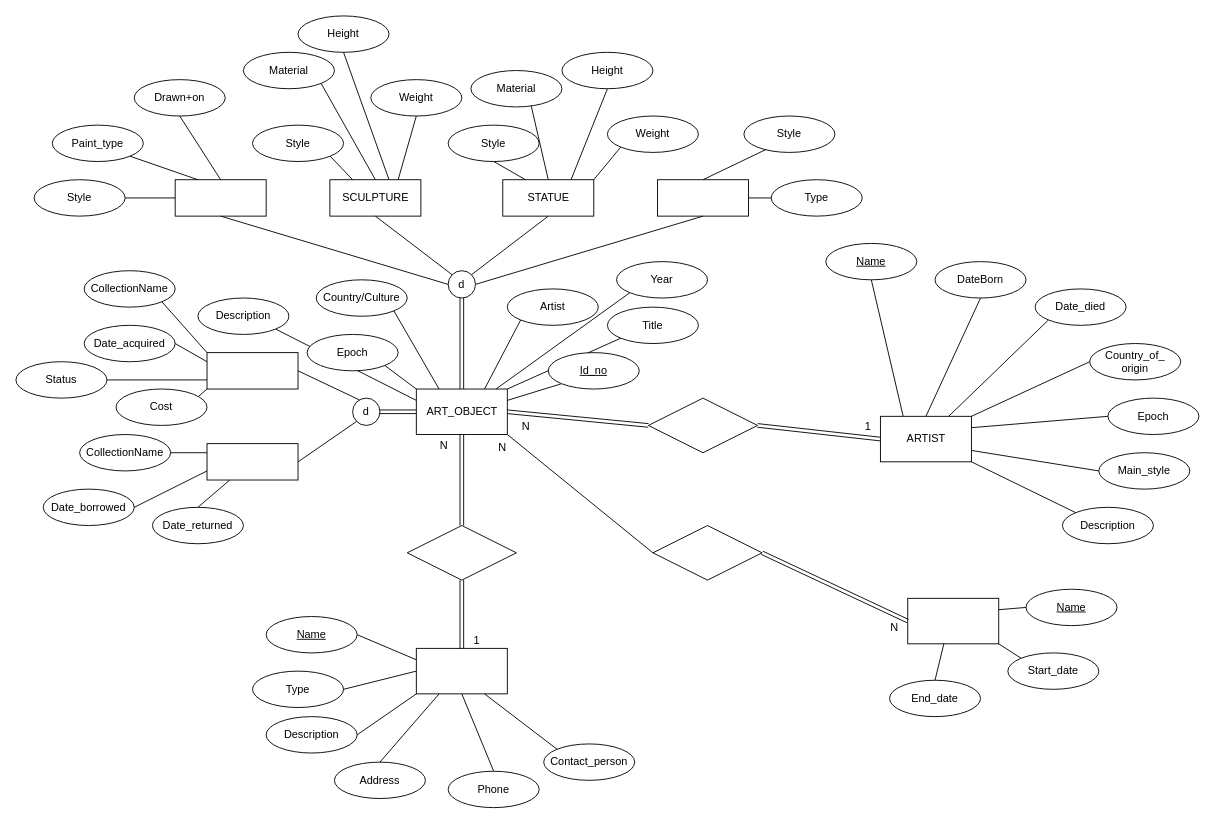
Some shapes in this 1215 by 824 pixel diagram are drawn without their labels. The shapes that lost their labels are listed below. From the top down, each one's centre as x and y in pixels, then its label:
point 220,197: PAINTING
point 702,197: OTHER
point 252,370: PERMANENT_ COLLECTION
point 702,425: OF
point 252,461: BORROWED
point 461,552: CONSIST_OF
point 707,552: DISPLAYED_ IN
point 953,620: EXHIBITIONS
point 461,670: COLLECTIONS
